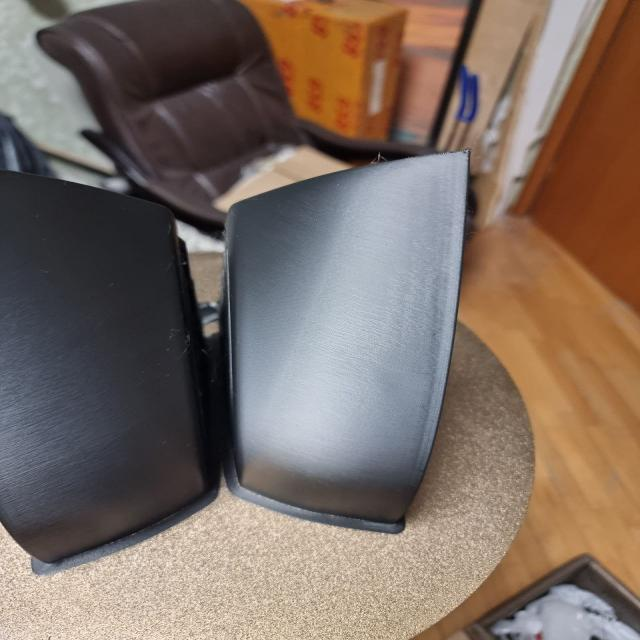Without deffect: (2, 133, 480, 577)
